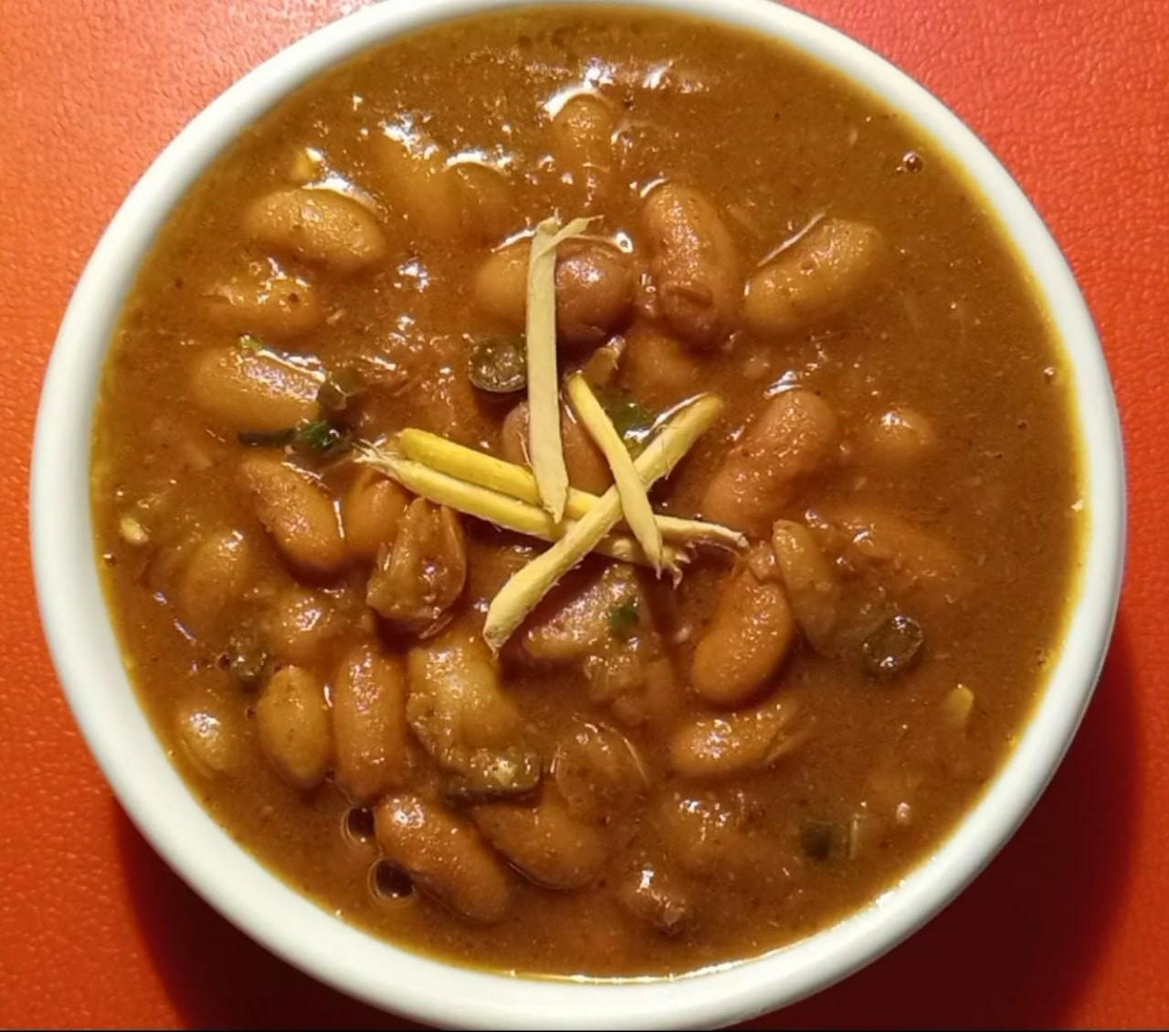RajmaCurry: (97, 0, 1080, 959)
